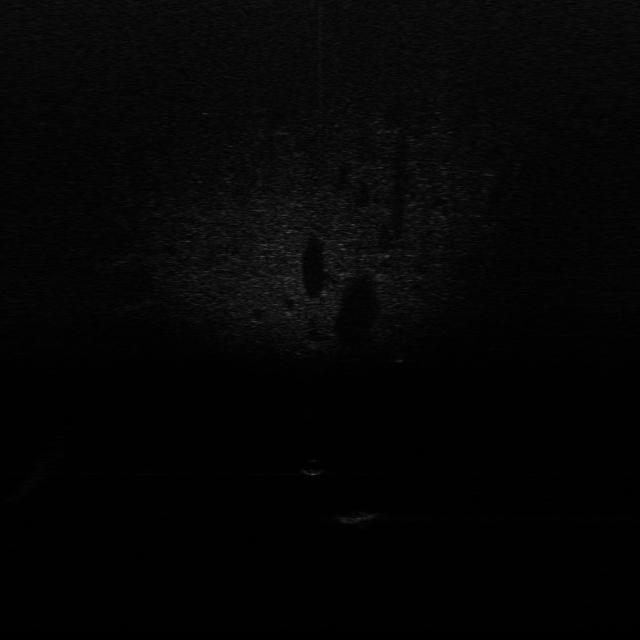ball: (290, 458, 326, 478)
square cage: (327, 508, 382, 528)
tyre: (392, 319, 412, 363)
